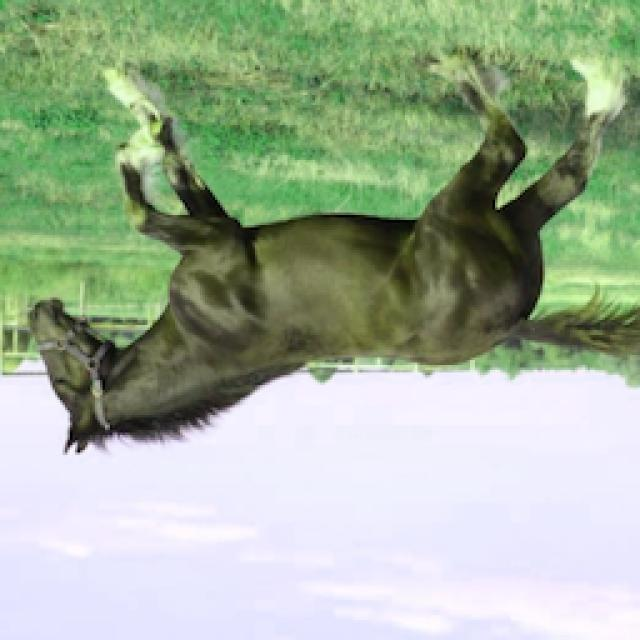Horse: (20, 45, 638, 463)
